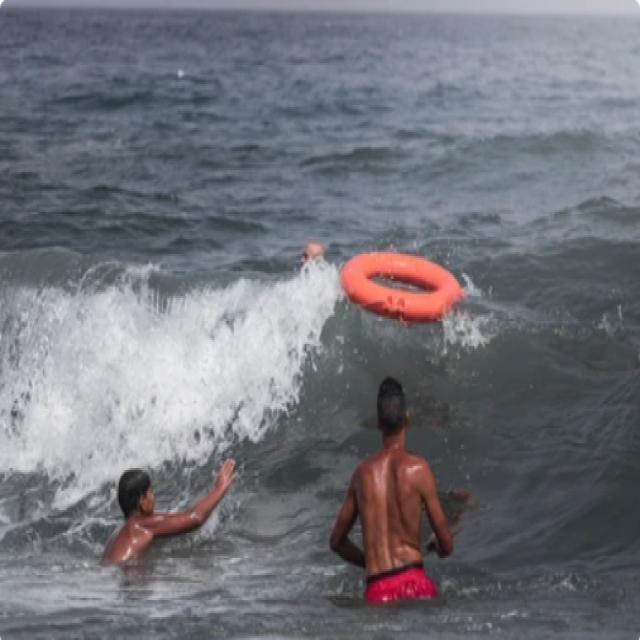drowning: (327, 371, 457, 574), (98, 448, 239, 564)
